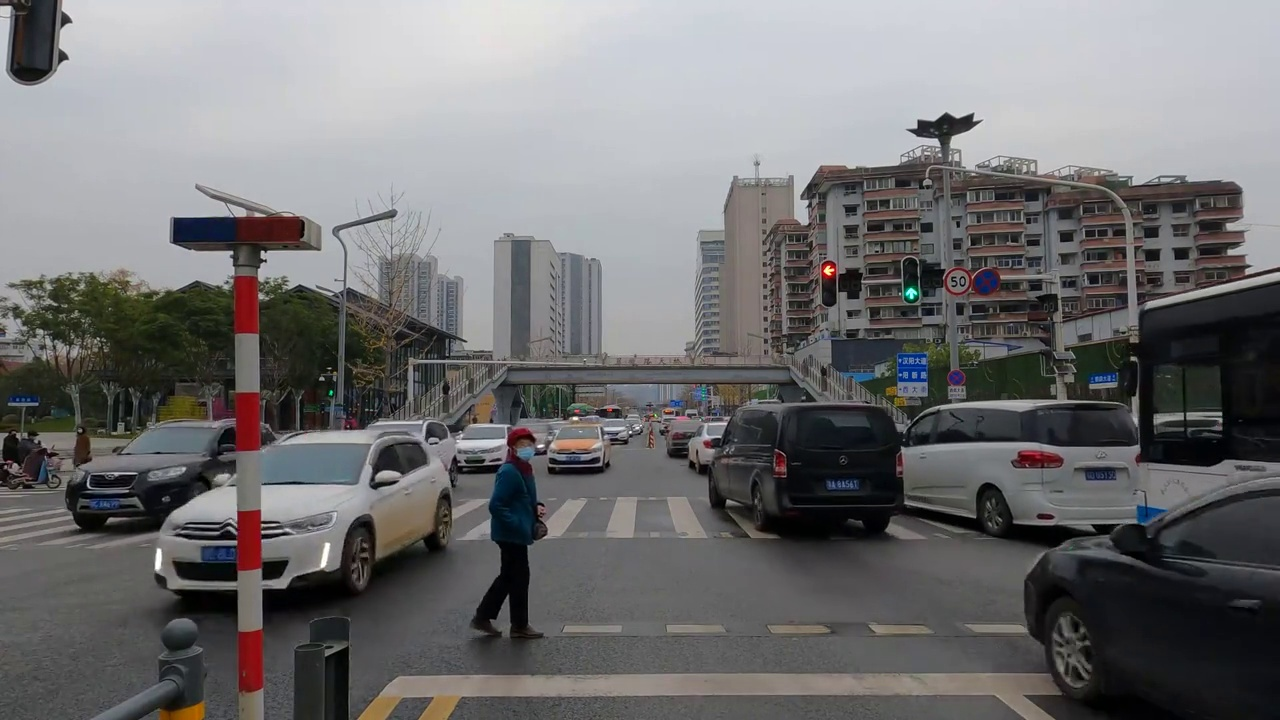lane: (373, 667, 1051, 720)
